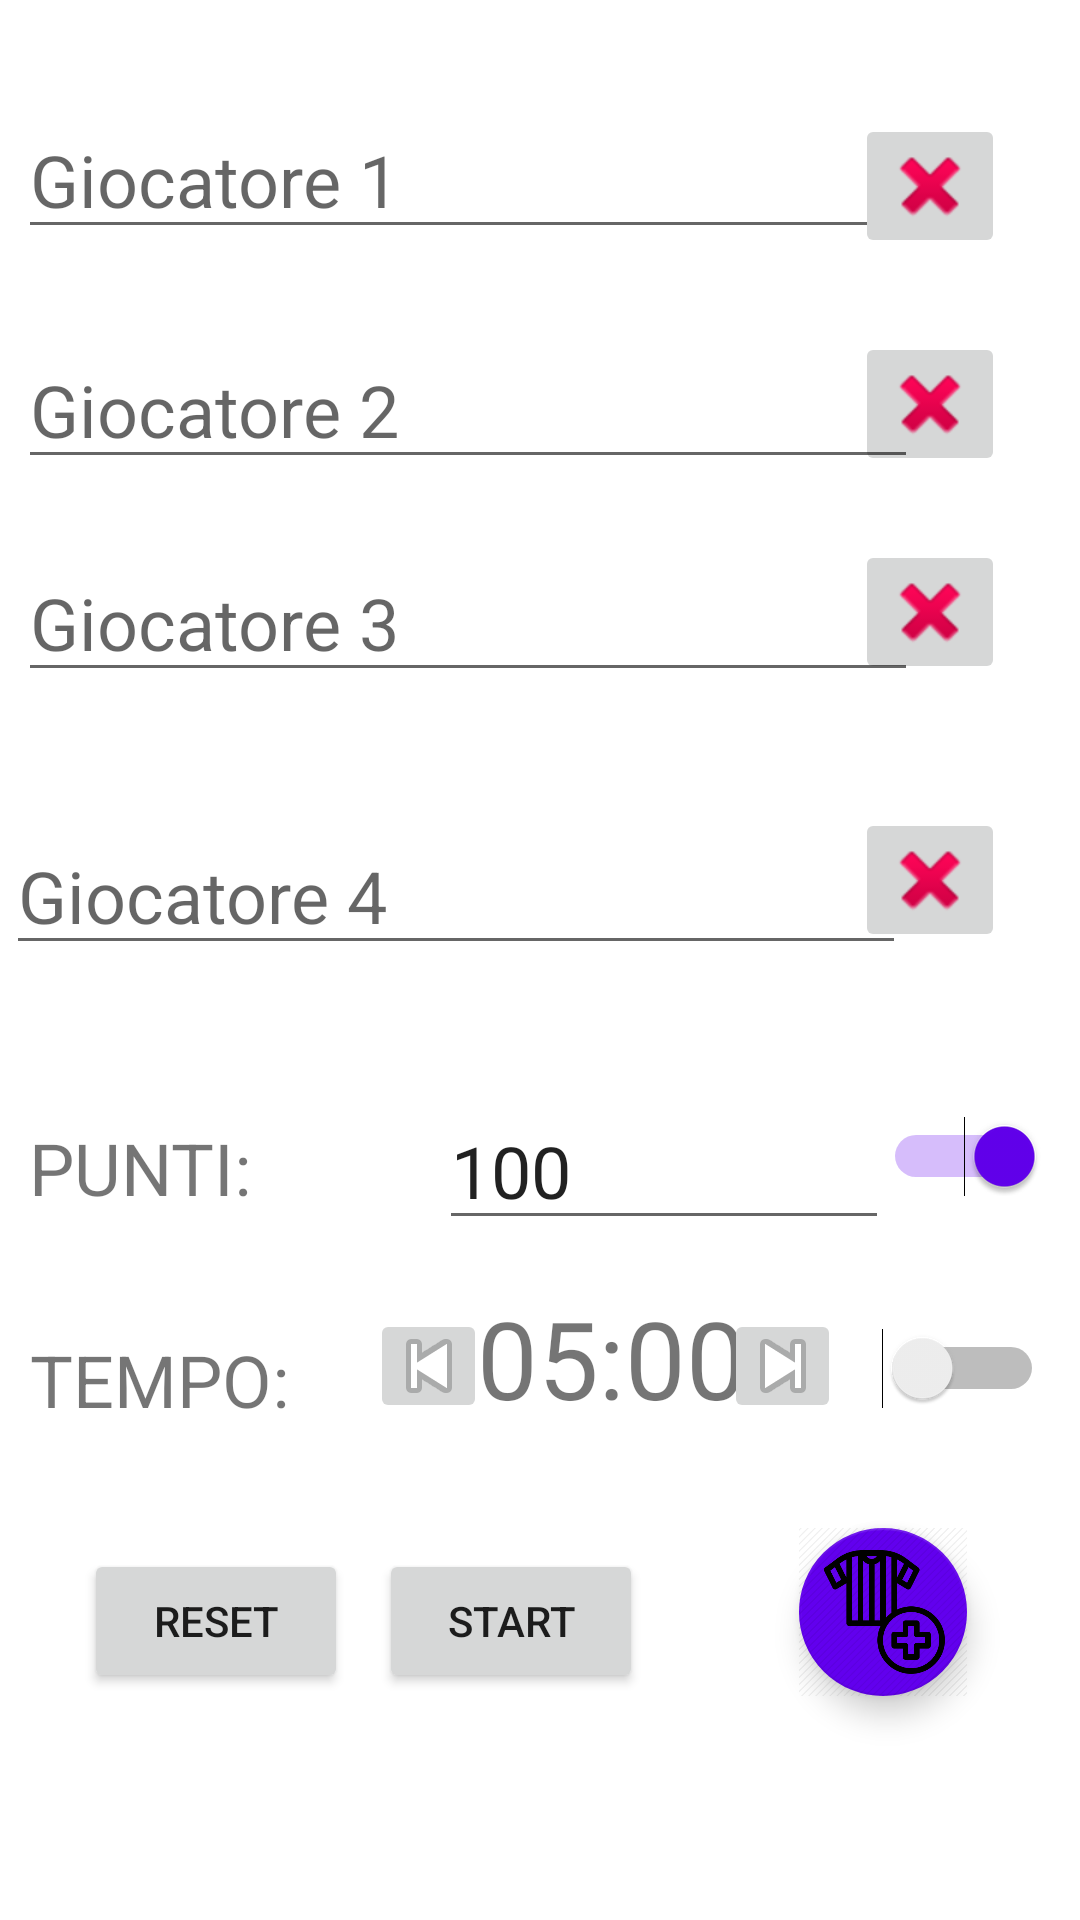

Where icons sit on this 1080×1920 app screen, as rect(x1, y1, x2, y2):
addplayer: rect(799, 1528, 967, 1696)
delete: rect(855, 132, 993, 240), rect(855, 350, 993, 458), rect(855, 558, 993, 668), rect(867, 826, 993, 934)
next: rect(724, 1323, 829, 1405)
previous: rect(382, 1327, 475, 1405)
